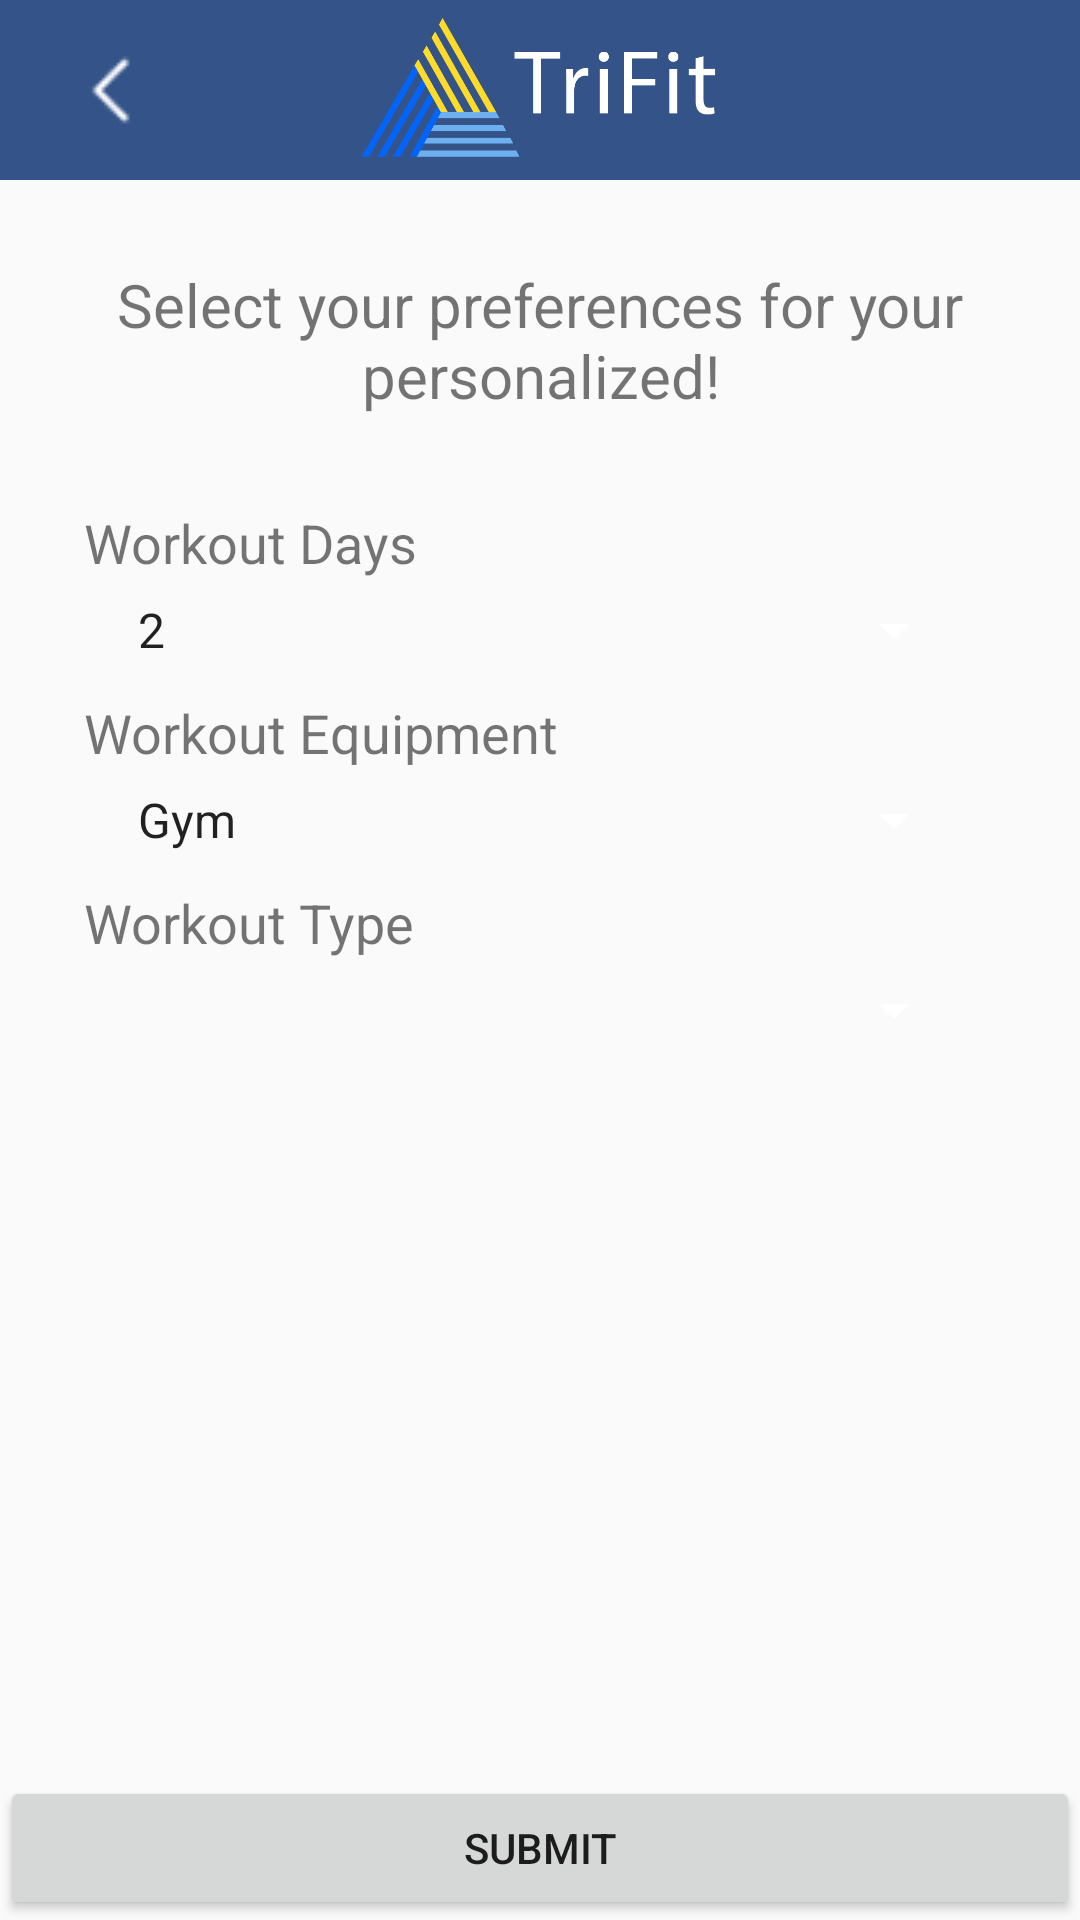

Icons on this 1080w x 1920h Android screen, each with the point to tap as (x=x, y=y):
back arrow: (x=111, y=90)
